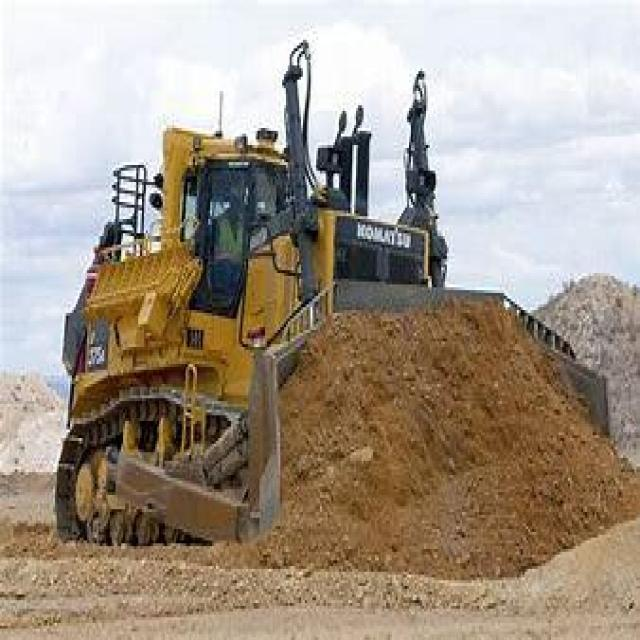buldozerpayloadergrader: (48, 34, 618, 592)
